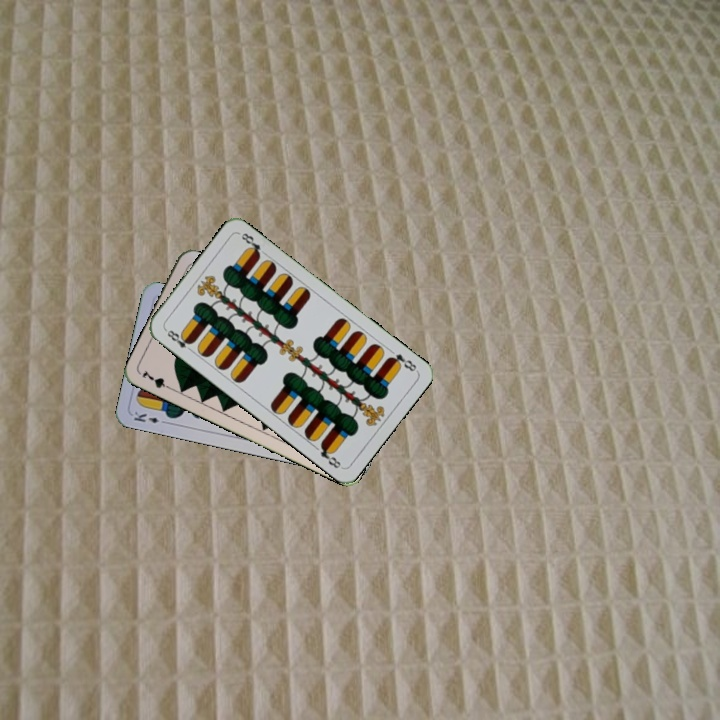E8: (161, 325, 195, 355), (384, 350, 420, 374)
EK: (130, 407, 170, 427)
G7: (138, 366, 176, 393)
